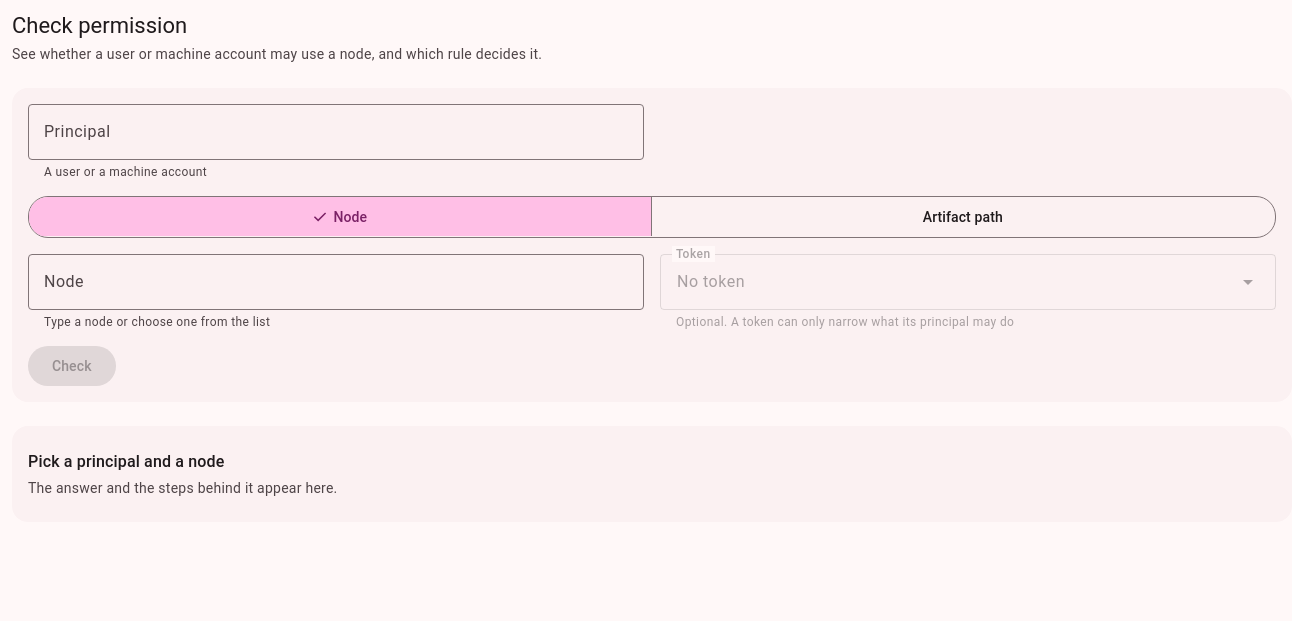
it: CheckPermissionView › an artifact path › asks for the repository once the path is typed, and keeps Check off
Type "alice" into the dropdown labelled "Principal" at (336, 132), box 28,104 -> 644,160
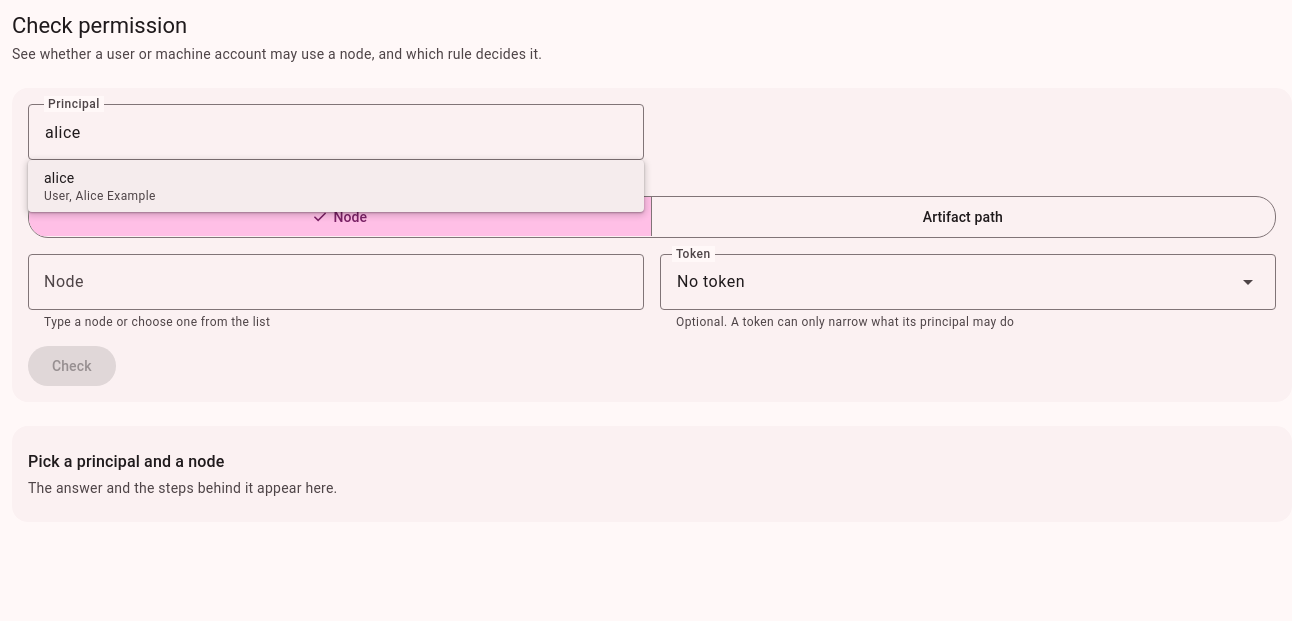
Click the radio button with test id "mode-path" at (962, 216), box 650,196 -> 1274,236
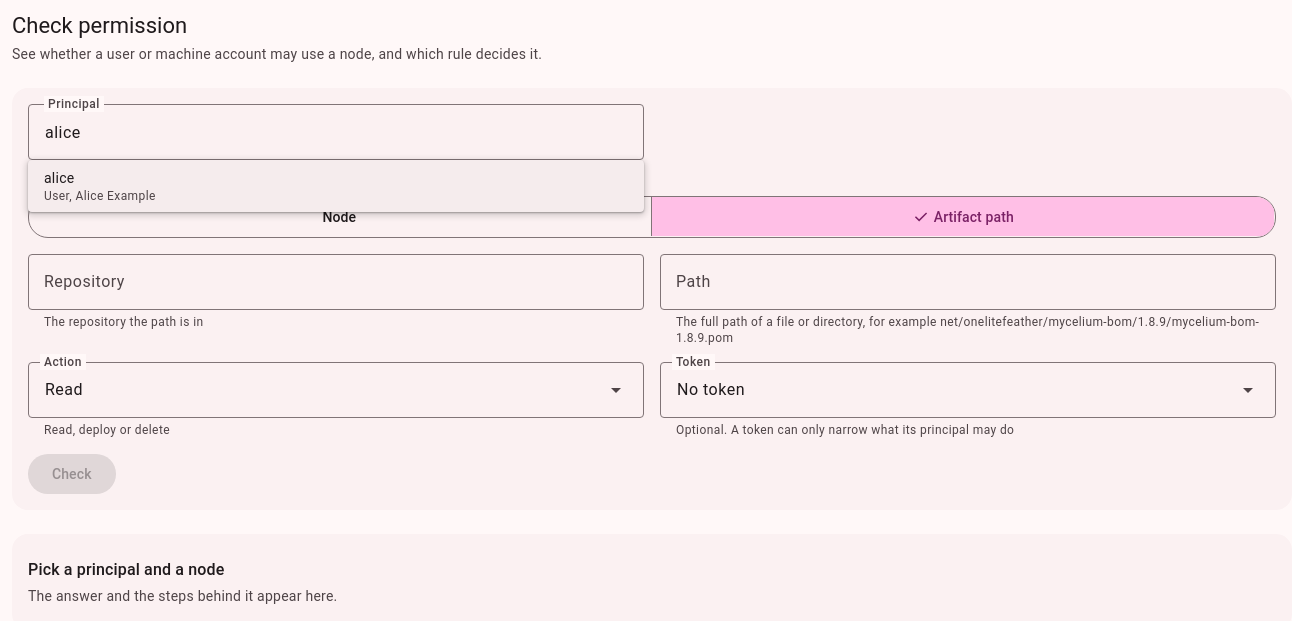
Type "net/onelitefeather/mycelium-bom/1.8.9/mycelium-bom-1.8.9.pom" into the field labelled "Path" at (968, 282), box 660,254 -> 1276,310
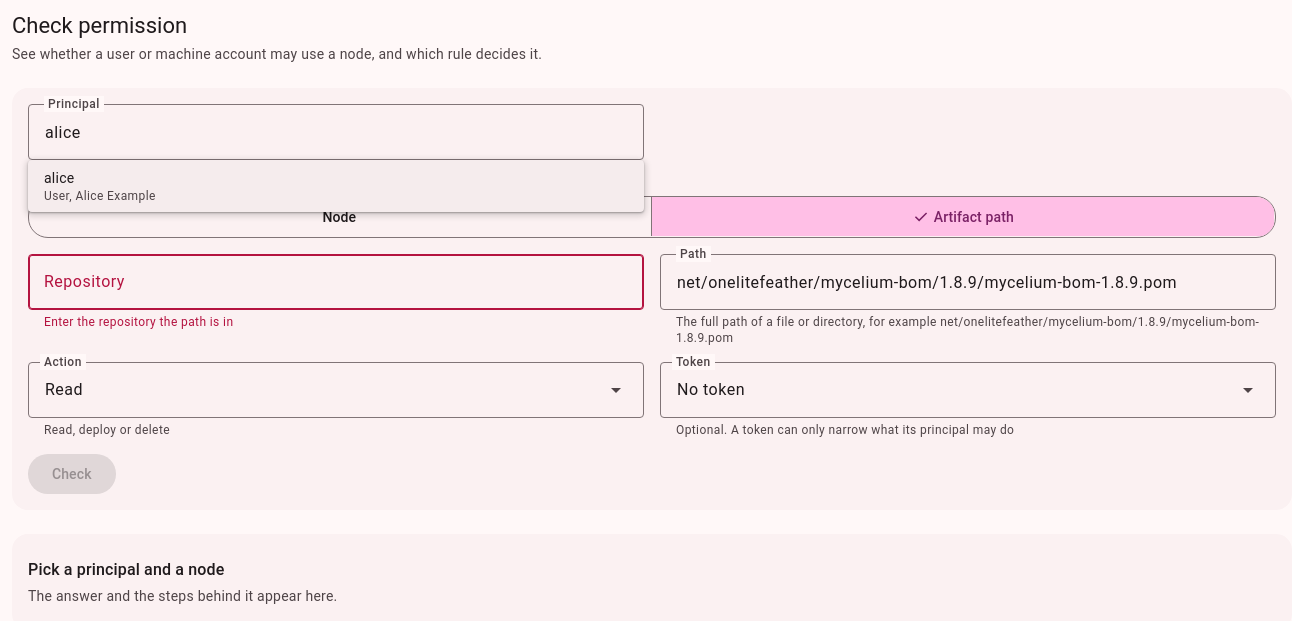
Expected: the button with test id "check" is disabled, 28,454 -> 116,494
Now the element with test id "artifact-repository" shows "Enter the repository the path is in", box 44,315 -> 233,329
